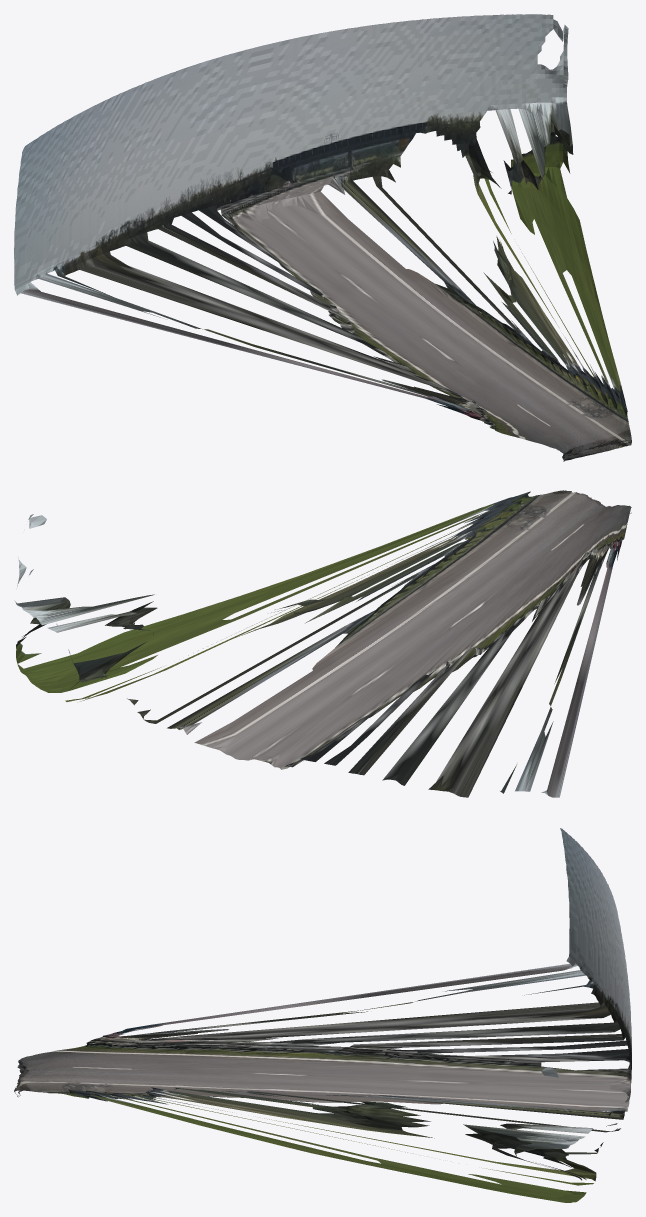
3 views of the same model, one above another, from view 1: azimuth 30°, elevation 25°; view 2: azimuth 150°, elevation 25°; view 3: azimuth 270°, elevation 25° (orthographic). The views are drawn at different scales.
Visible parts, largest first — view 1: defaultobject; view 2: defaultobject; view 3: defaultobject.
Boxes of the visible parts, left/top/right/bottom form: defaultobject: left=14, top=14, right=631, bottom=461; defaultobject: left=14, top=490, right=631, bottom=797; defaultobject: left=14, top=828, right=631, bottom=1202.
Size of the model in its own units: 41.09 by 12.58 by 44.41.
Materials: 1 (1 with a texture image).
